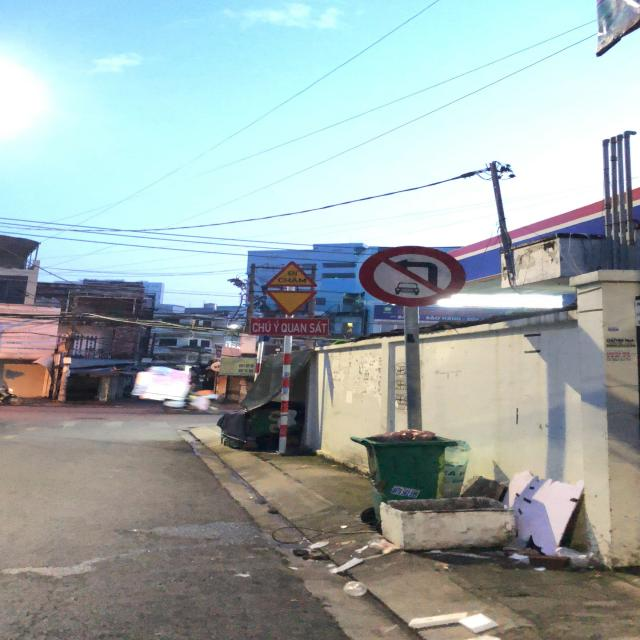Bien bao cam xe o to re trai: (354, 242, 471, 308)
Bien bao di cham: (264, 257, 324, 289)
Bien bao giao nhau voi duong uu tien: (262, 287, 318, 314)
